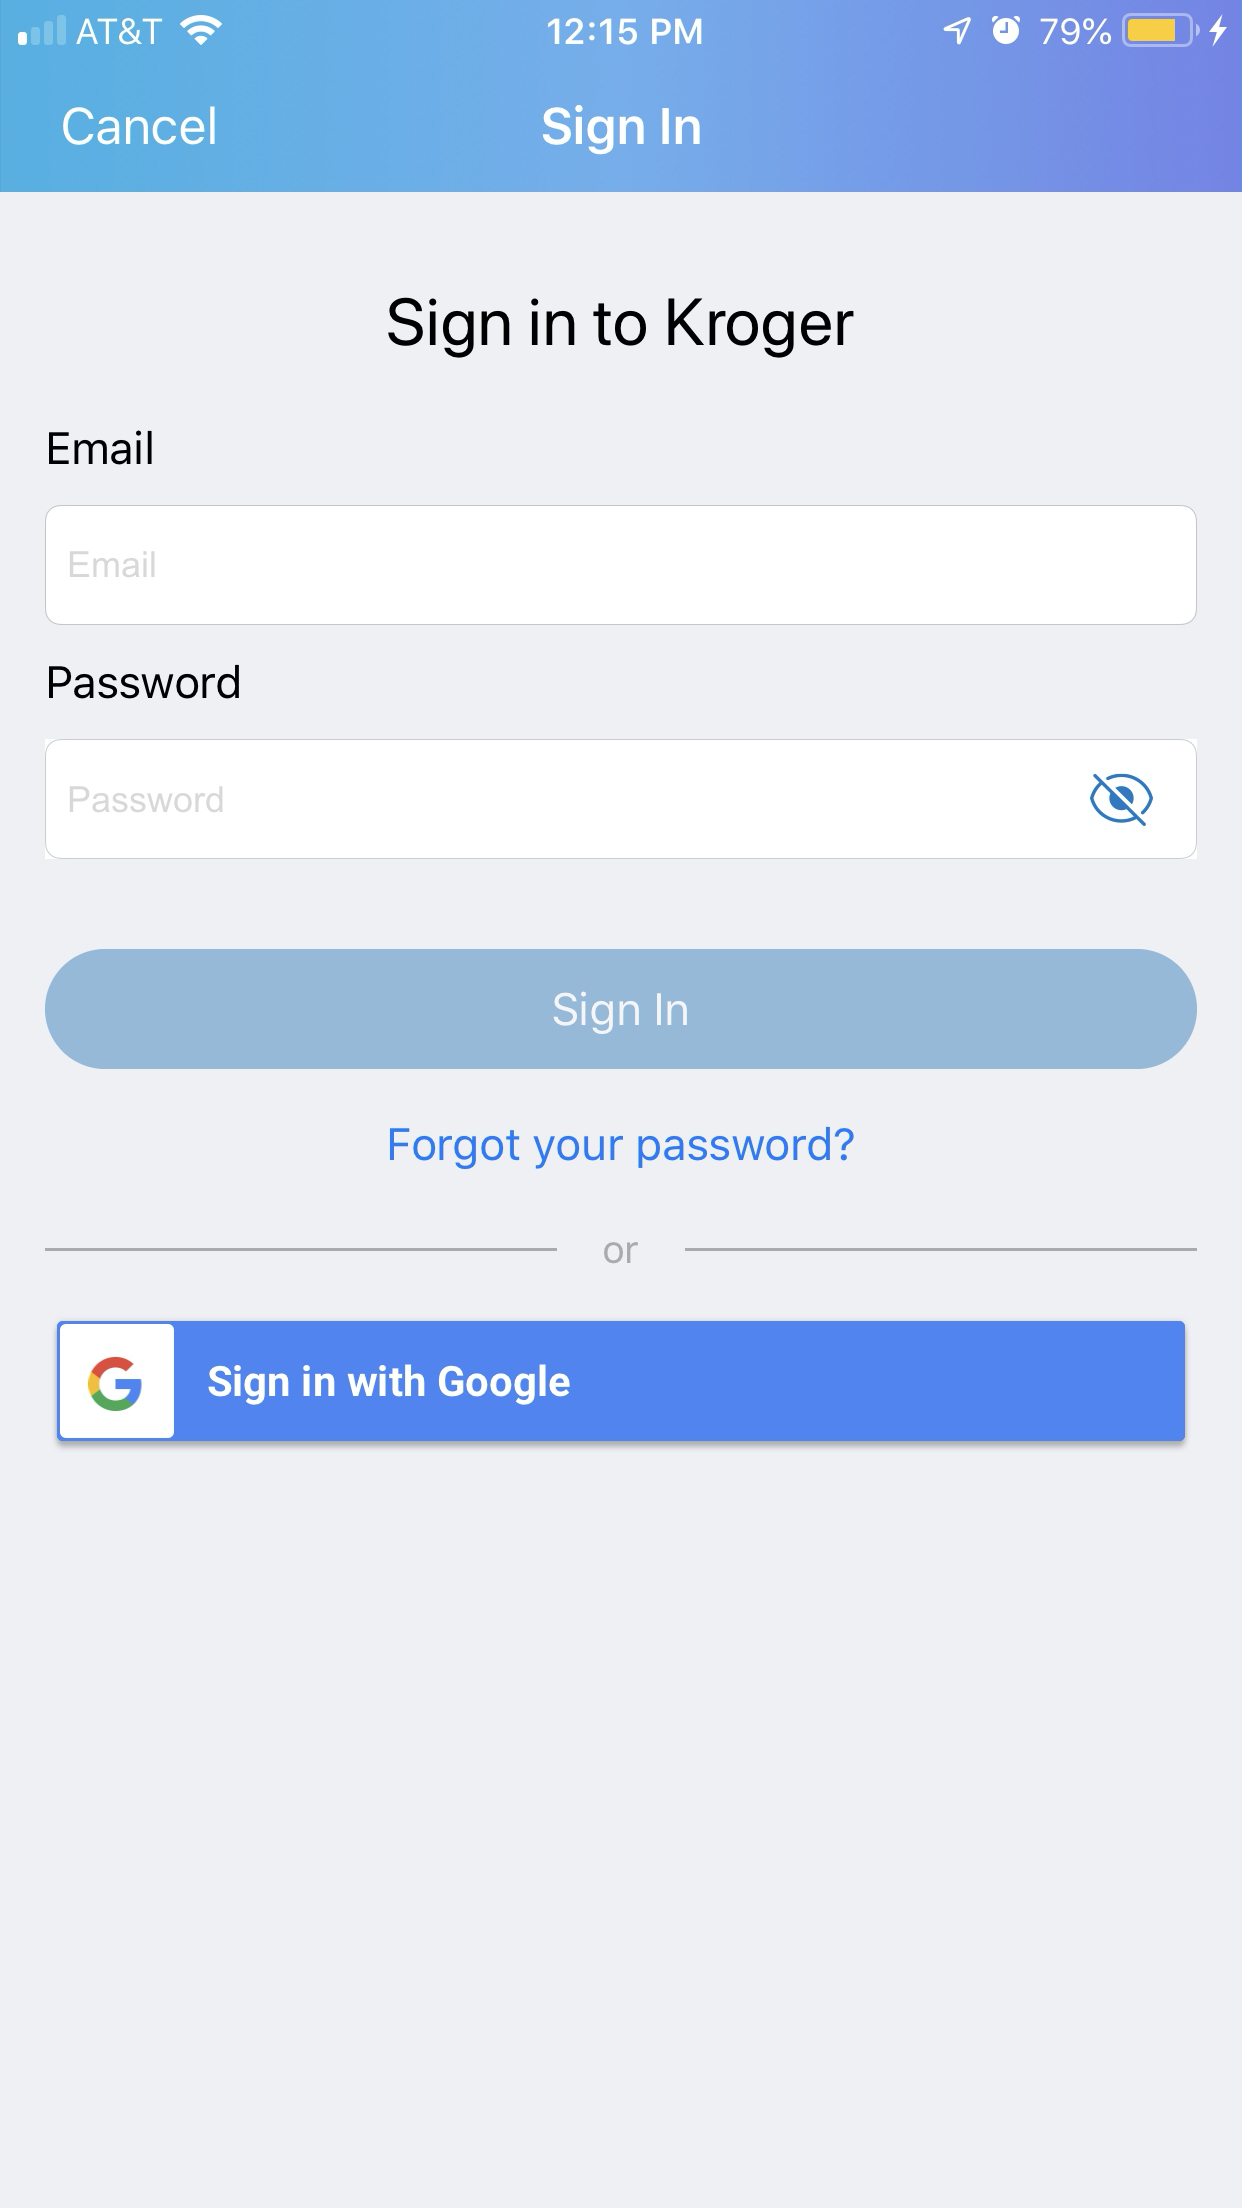EditText: (45, 739, 1198, 860), (45, 505, 1197, 626)
Icon: (1090, 773, 1154, 826)
Text: (388, 297, 855, 359), (390, 1127, 855, 1171), (541, 105, 701, 156), (49, 666, 241, 701), (64, 106, 217, 147), (70, 786, 224, 814), (49, 431, 153, 466), (70, 550, 156, 579), (604, 1240, 640, 1265)
TextButton: (45, 949, 1197, 1071), (58, 1321, 1184, 1442)
UpperTaskBar: (2, 2, 1242, 49)
